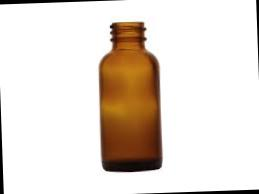glass: (88, 13, 174, 184)
